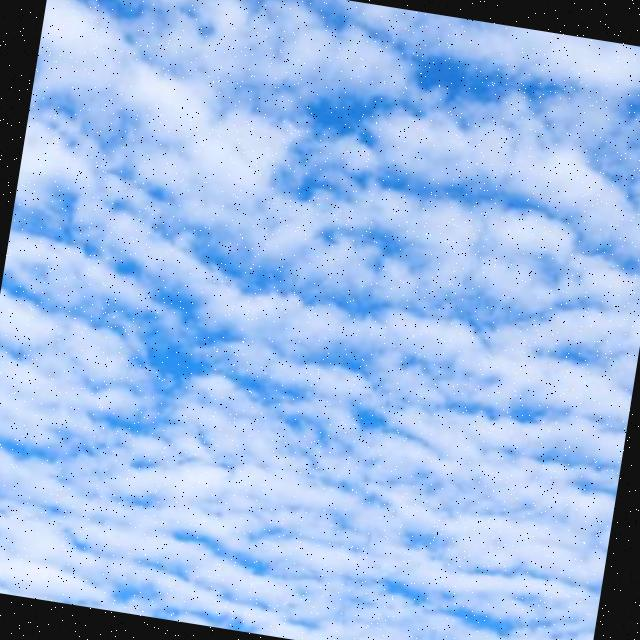Ac: (1, 1, 640, 566)
